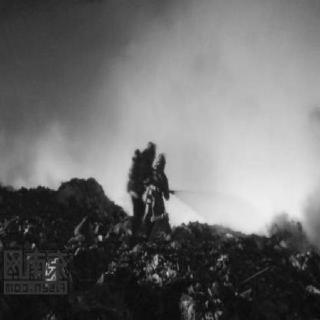Smoke: (3, 27, 294, 157)
